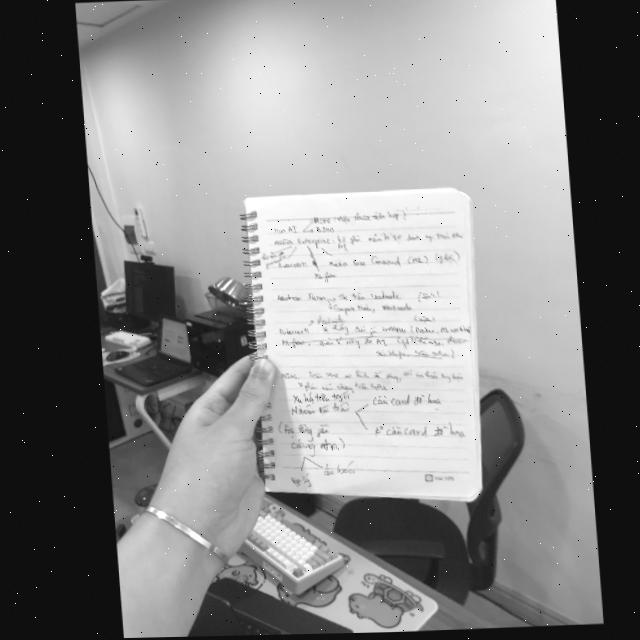document: (245, 185, 482, 500)
